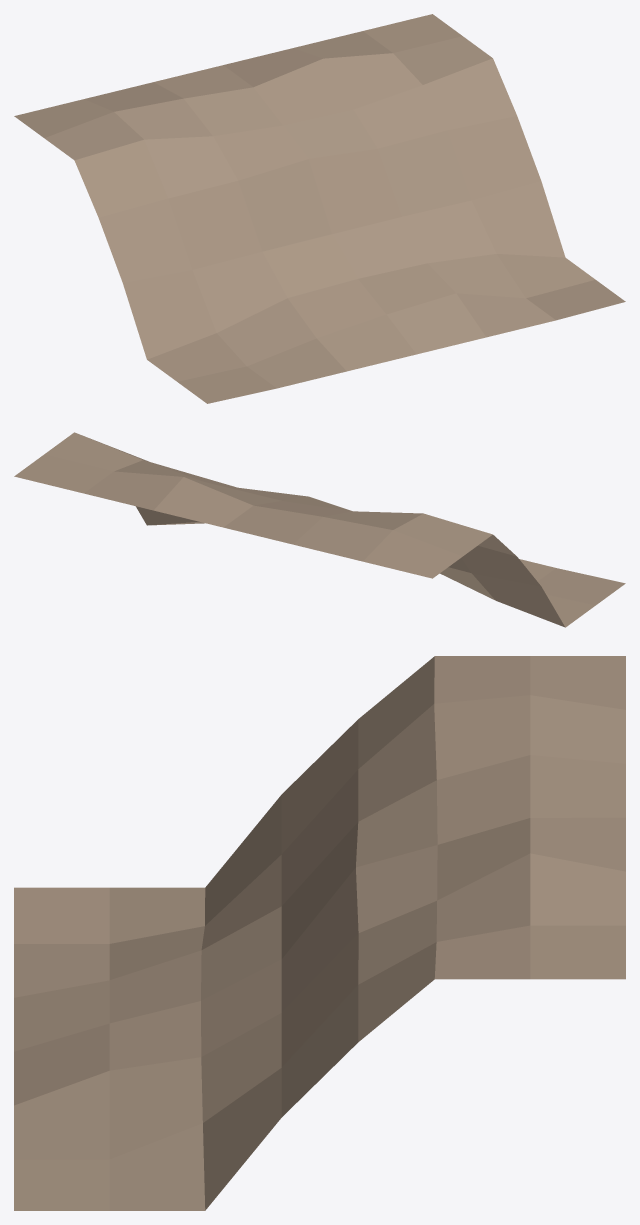
The model's file is Groborchik_RiverBank_2m_1.fbx.
The picture shows the model from 3 angles, top to bottom: view 1: azimuth 30°, elevation 25°; view 2: azimuth 150°, elevation 25°; view 3: azimuth 270°, elevation 25°; orthographic projection. The views are drawn at different scales.
Parts seen in each view (by area): view 1: 2m_1; view 2: 2m_1; view 3: 2m_1.
Boxes of the visible parts, x1,y1,x2,y2 form: 2m_1: (14,14,625,403); 2m_1: (14,432,625,627); 2m_1: (14,656,625,1210).
Size of the model in its own units: 1000 by 364 by 800.
